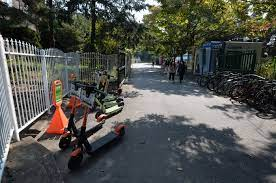kick_handler: (78, 84, 105, 96)
kick_wheel: (69, 152, 82, 169), (59, 133, 70, 148), (116, 125, 125, 136), (95, 110, 104, 118), (99, 115, 107, 124), (118, 102, 124, 110)
